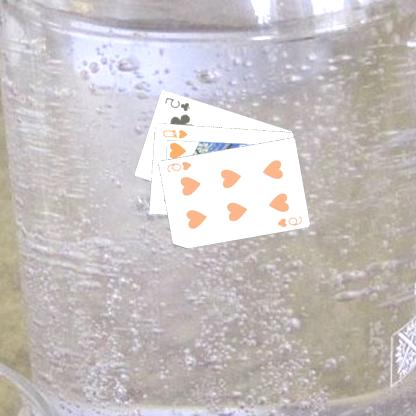5C: (163, 94, 193, 112)
6H: (166, 158, 194, 174), (276, 213, 305, 228)
QH: (161, 126, 191, 140)
